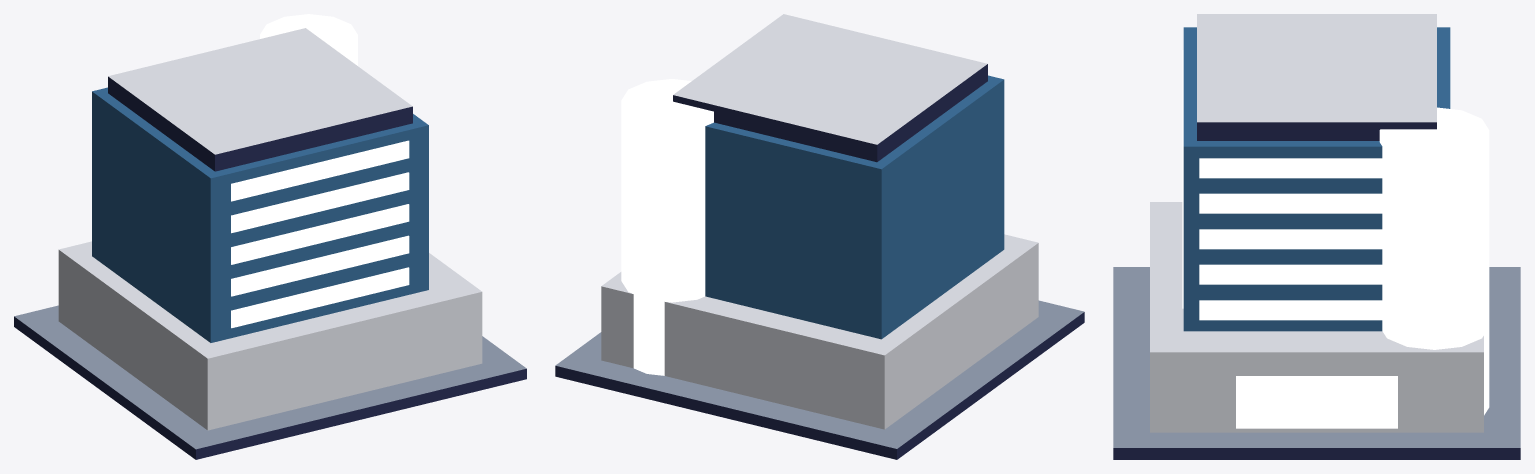
Rendered from building-commercial-mall.glb.
3 renders of one model, left to right at view 1: azimuth 30°, elevation 25°; view 2: azimuth 150°, elevation 25°; view 3: azimuth 270°, elevation 25°, orthographic. The views are drawn at different scales.
Visible parts, largest first — view 1: building-commercial-mall_root; view 2: building-commercial-mall_root; view 3: building-commercial-mall_root.
Boxes of the visible parts, x1,y1,x2,y2 form: building-commercial-mall_root: (14, 14, 526, 459); building-commercial-mall_root: (555, 14, 1084, 459); building-commercial-mall_root: (1113, 14, 1520, 459).
Size of the model in its own units: 16.4 by 12.5 by 15.6.
Materials: 2 (2 with a texture image).
